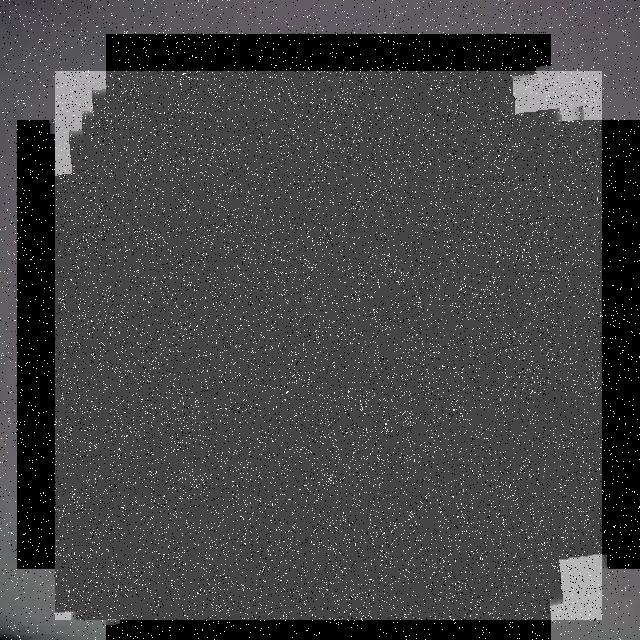dua ribu rupiah: (55, 71, 602, 620)
